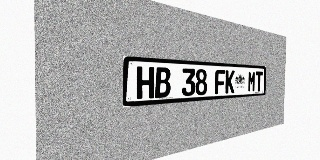3: (182, 68, 195, 96)
8: (195, 69, 207, 95)
B: (155, 67, 171, 98)
F: (215, 70, 225, 94)
H: (136, 66, 154, 99)
K: (225, 70, 235, 93)
M: (248, 71, 256, 92)
T: (255, 71, 263, 91)
